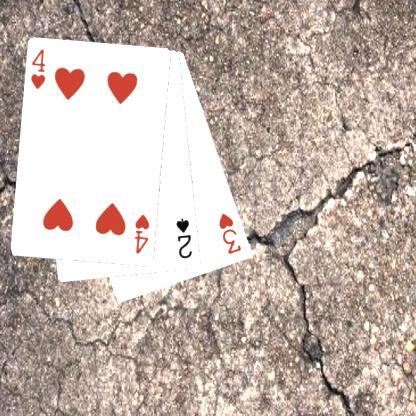2S: (173, 216, 194, 260)
3H: (216, 211, 244, 256)
4H: (132, 212, 152, 255), (28, 47, 47, 91)
